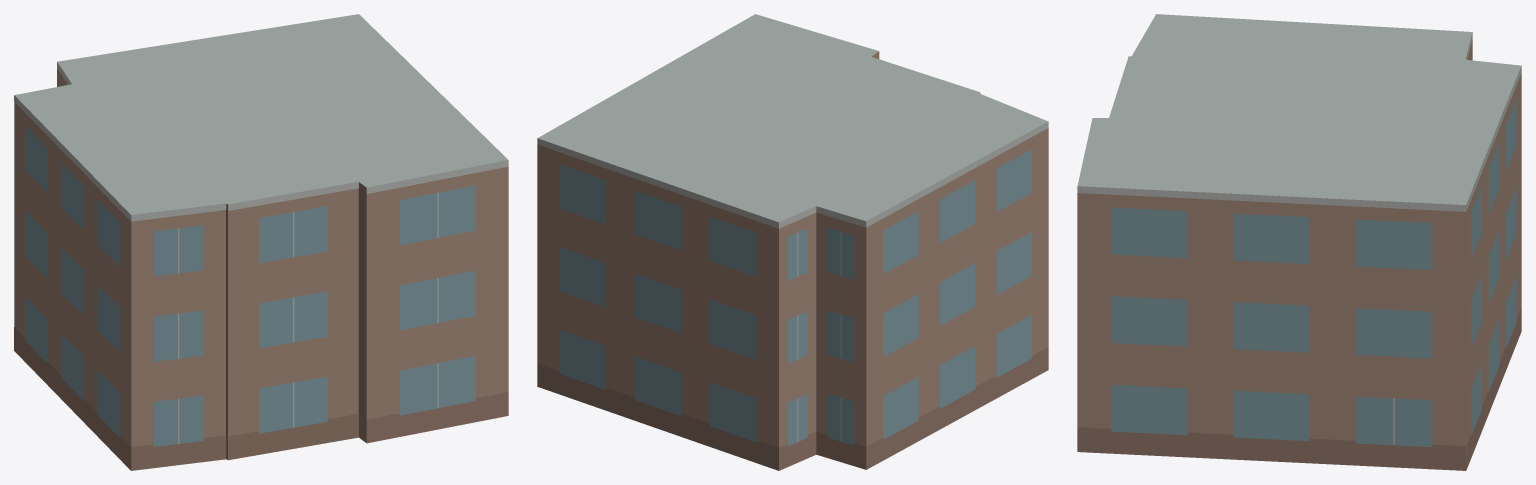
The model's file is survey-upis-32501840.glb.
3 renders of one model, left to right at view 1: azimuth 30°, elevation 25°; view 2: azimuth 150°, elevation 25°; view 3: azimuth 270°, elevation 25°, orthographic. The views are drawn at different scales.
Parts seen in each view (by area): view 1: survey-upis-32501840.tmp; view 2: survey-upis-32501840.tmp; view 3: survey-upis-32501840.tmp.
Part boxes in pixels (left/top/right/bottom): survey-upis-32501840.tmp: left=14, top=14, right=508, bottom=470; survey-upis-32501840.tmp: left=537, top=14, right=1048, bottom=470; survey-upis-32501840.tmp: left=1077, top=14, right=1521, bottom=470.
Size of the model in its own units: 14.82 by 9.6 by 14.56.
